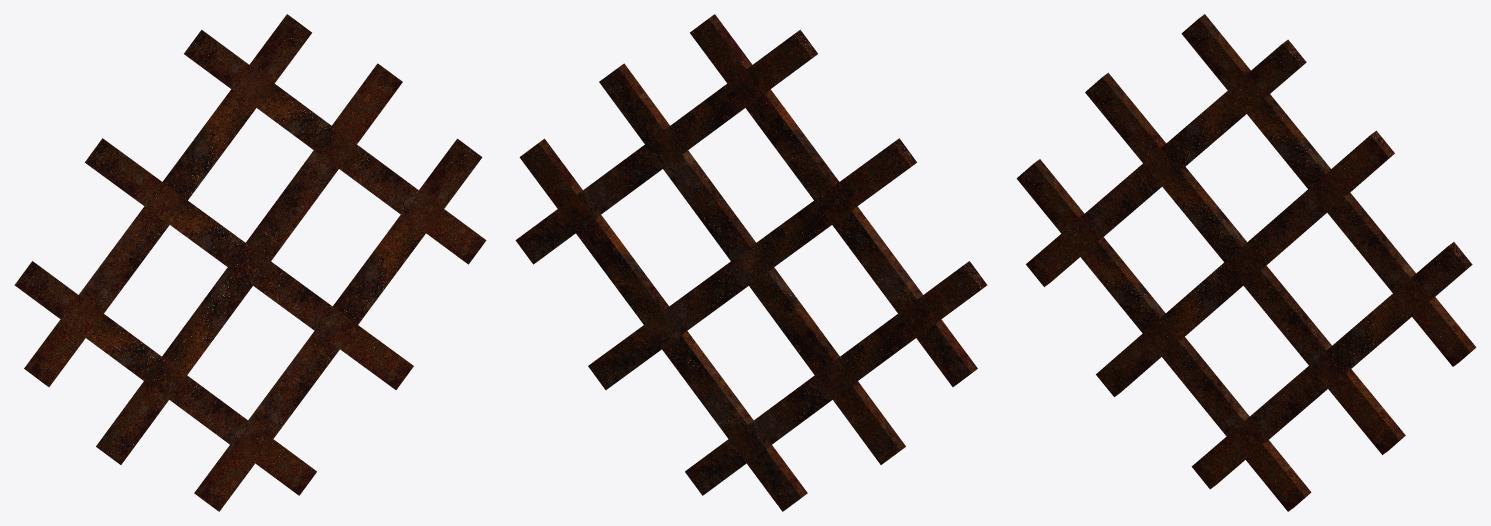
Rendered from Lattice.fbx.
3 renders of one model, left to right at view 1: azimuth 30°, elevation 25°; view 2: azimuth 150°, elevation 25°; view 3: azimuth 330°, elevation 25°, orthographic. The views are drawn at different scales.
Parts seen in each view (by area): view 1: Latice_plank2; view 2: Latice_plank2; view 3: Latice_plank2.
Boxes of the visible parts, x1=… form: Latice_plank2: x1=14, y1=14, x2=486, y2=511; Latice_plank2: x1=515, y1=14, x2=987, y2=511; Latice_plank2: x1=1016, y1=14, x2=1476, y2=511.
Size of the model in its own units: 1.96 by 1.95 by 0.0452.
